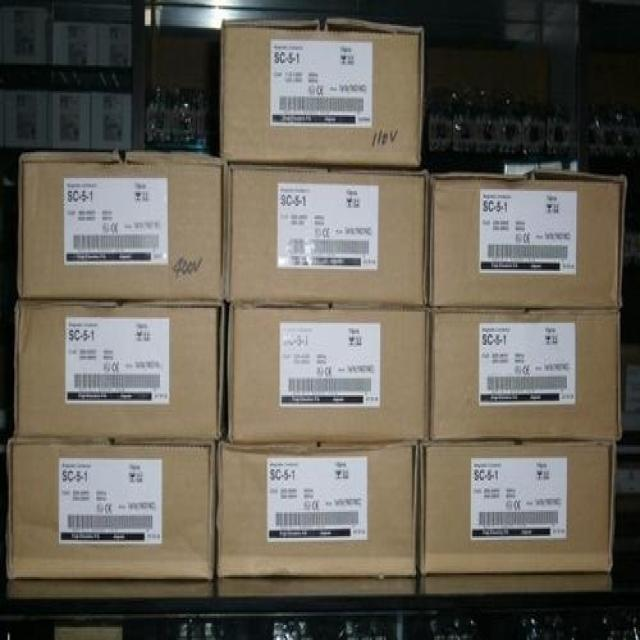box: (20, 150, 221, 302), (14, 301, 224, 440), (9, 438, 215, 579), (219, 22, 422, 165), (225, 163, 429, 304), (226, 304, 429, 442), (216, 443, 420, 575), (420, 442, 614, 577), (429, 174, 626, 306), (430, 310, 621, 438)
